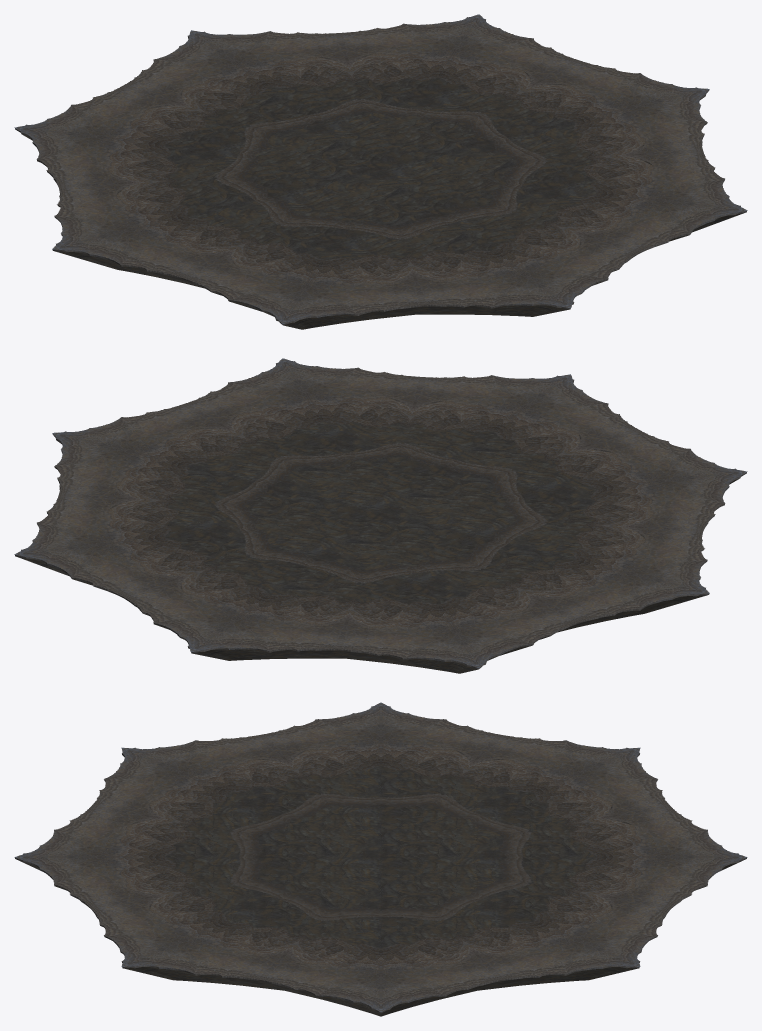
Rendered from bg_rad_kamen_floor06_sm_psy.obj.
The picture shows the model from 3 angles, top to bottom: view 1: azimuth 30°, elevation 25°; view 2: azimuth 150°, elevation 25°; view 3: azimuth 270°, elevation 25°; orthographic projection. The views are drawn at different scales.
Parts seen in each view (by area): view 1: bg_rad_kamen_floor06_sm_psy_0, bg_rad_kamen_floor06_sm_psy_2, bg_rad_kamen_floor06_sm_psy_1; view 2: bg_rad_kamen_floor06_sm_psy_0, bg_rad_kamen_floor06_sm_psy_2, bg_rad_kamen_floor06_sm_psy_1; view 3: bg_rad_kamen_floor06_sm_psy_0, bg_rad_kamen_floor06_sm_psy_2, bg_rad_kamen_floor06_sm_psy_1.
Boxes of the visible parts, box(x1,y1,x2,y2) form: bg_rad_kamen_floor06_sm_psy_0: box(14, 14, 747, 325); bg_rad_kamen_floor06_sm_psy_2: box(20, 45, 745, 329); bg_rad_kamen_floor06_sm_psy_1: box(108, 53, 653, 283); bg_rad_kamen_floor06_sm_psy_0: box(14, 358, 747, 669); bg_rad_kamen_floor06_sm_psy_2: box(16, 389, 741, 673); bg_rad_kamen_floor06_sm_psy_1: box(108, 397, 653, 627); bg_rad_kamen_floor06_sm_psy_0: box(14, 702, 747, 1013); bg_rad_kamen_floor06_sm_psy_2: box(16, 751, 745, 1016); bg_rad_kamen_floor06_sm_psy_1: box(116, 745, 645, 968).
Size of the model in its own units: 37.79 by 2.03 by 37.79.
Materials: 3 (3 with a texture image).
